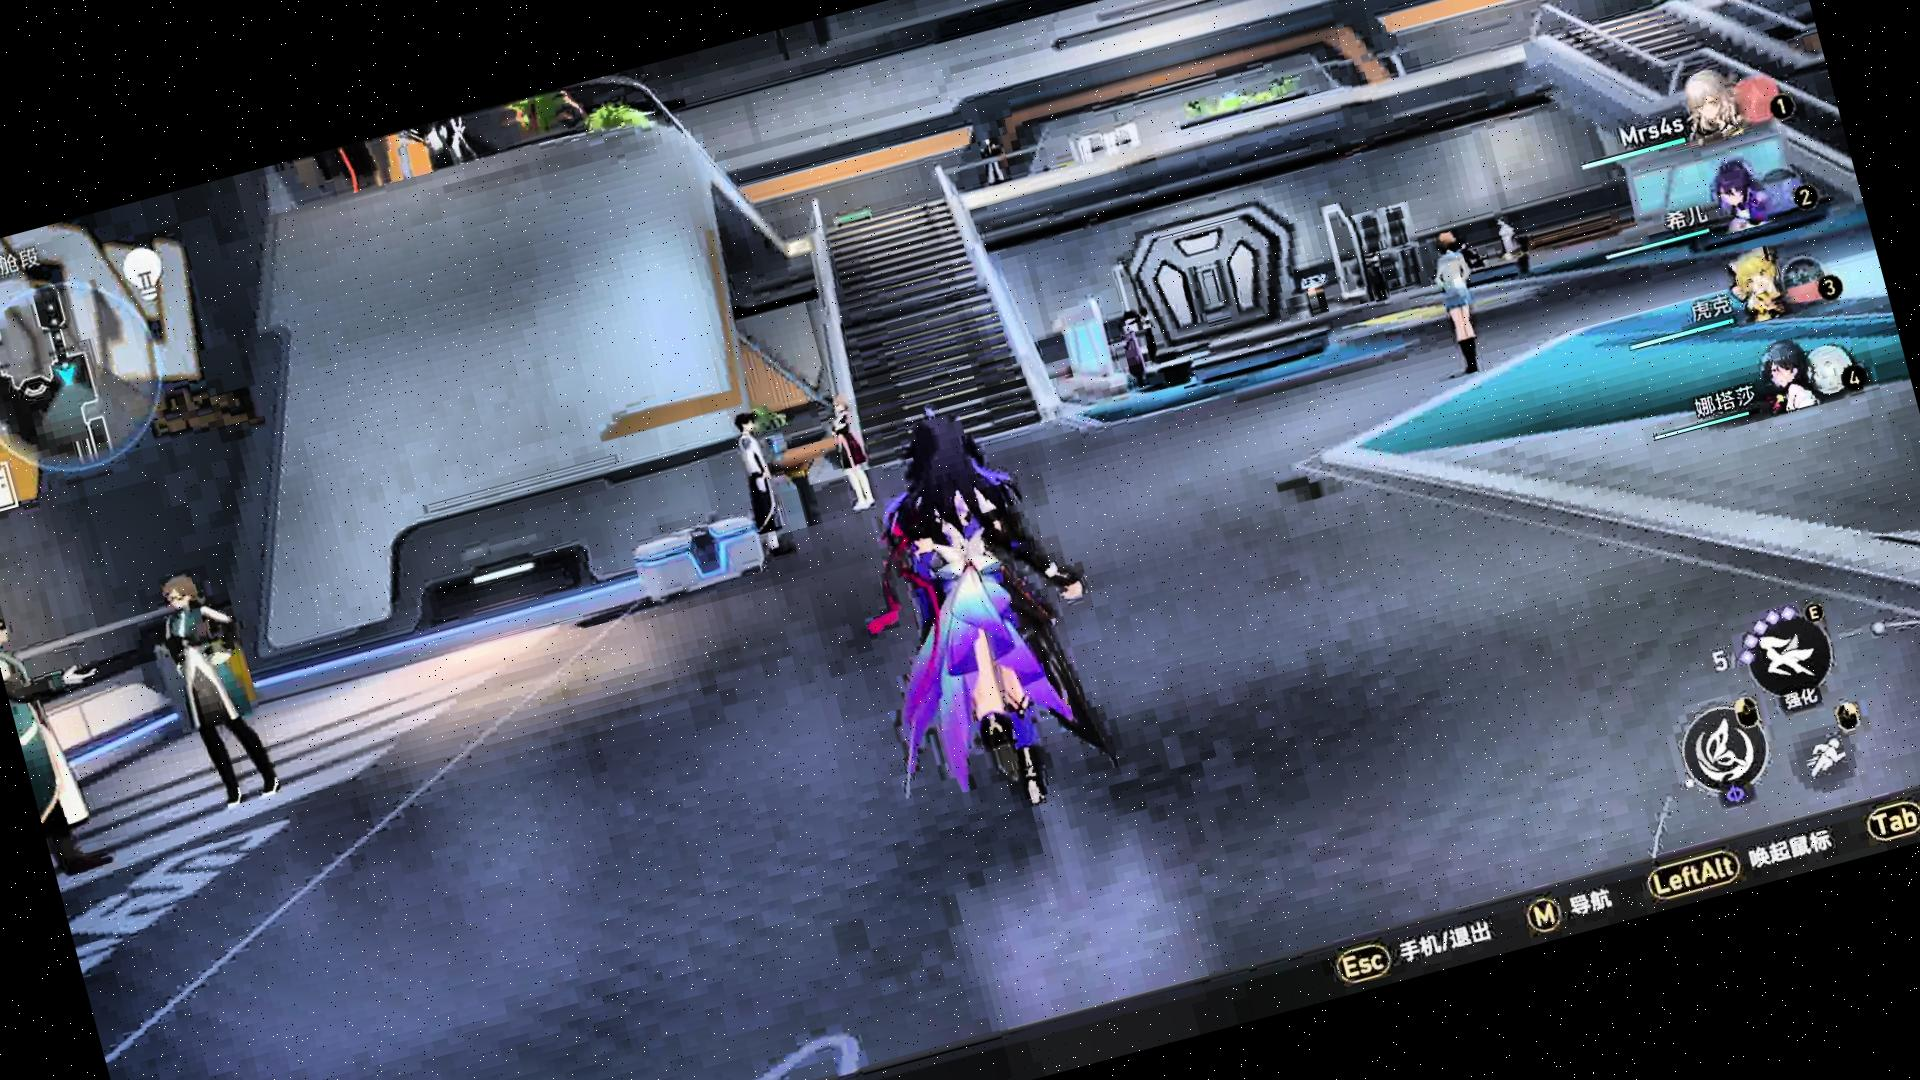Self: (824, 388, 1150, 873)
TeamMate: (0, 587, 153, 894), (145, 553, 299, 833), (723, 406, 803, 570), (1420, 227, 1502, 381), (814, 380, 887, 522), (1109, 301, 1154, 390), (1360, 239, 1400, 310), (1490, 208, 1523, 260)
